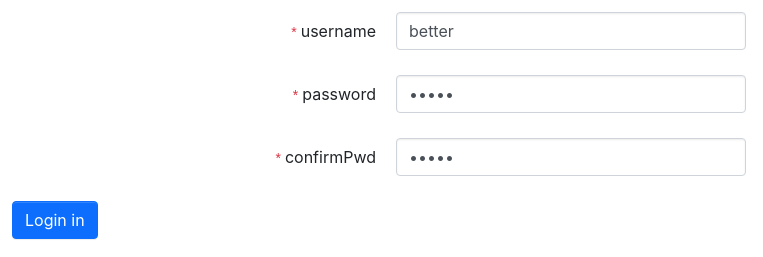
it: testing Form component › submit form with invliad values should show the error message
The width and height of the screenshot is (763, 257).
Clear the field showing "better". click: (571, 31)
box: [396,12,746,50]
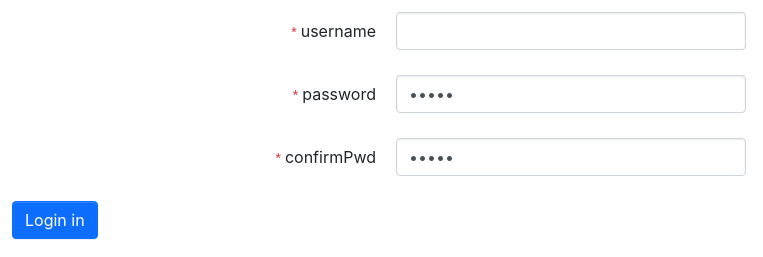
Clear the password field showing "12345" next to "password". click: (571, 94)
box: [396,75,746,113]
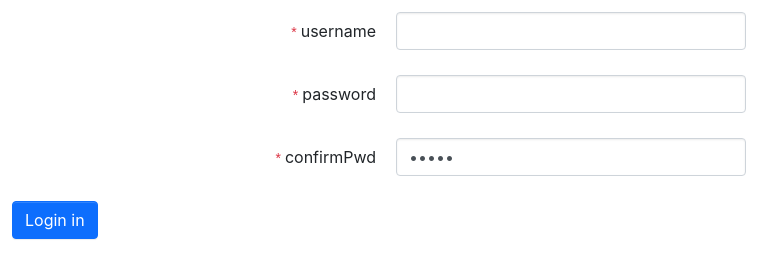
Click the button "Login in". click: (55, 220)
box: [12,201,98,239]
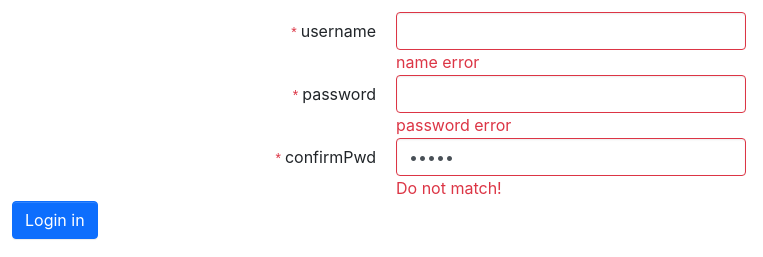
Now the text "name error" is shown, box [396,52,479,72]
Now the text "password error" is shown, box [396,115,511,135]
